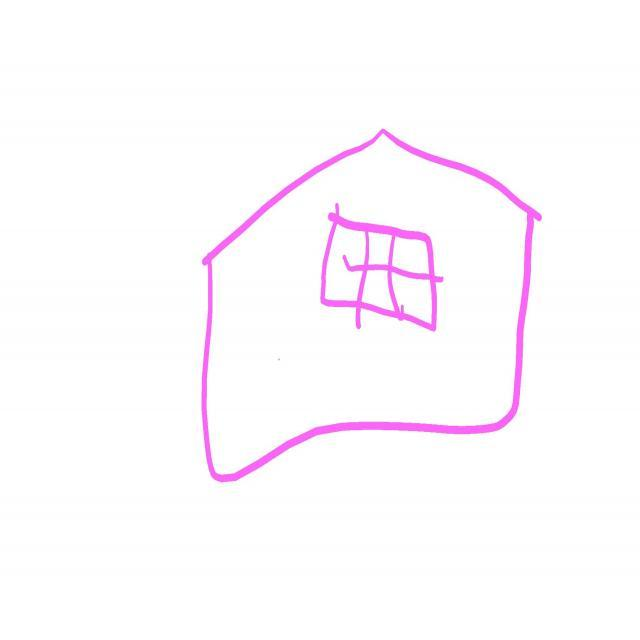house: (202, 129, 542, 482)
wall: (224, 210, 524, 439)
window: (322, 205, 444, 330)
